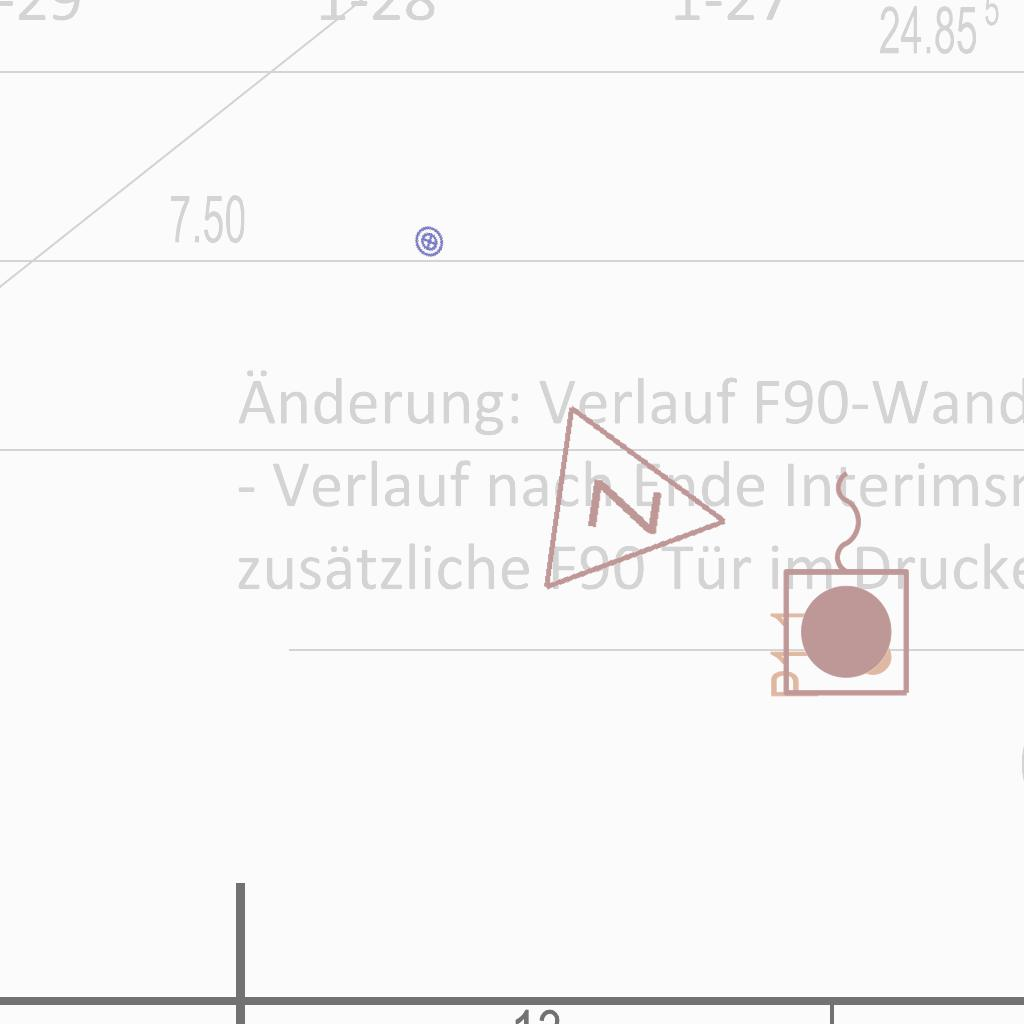Downlight_LED_Einbauleuchten_Flur: (767, 607, 895, 700)
Taster_beleuchtet: (407, 219, 452, 264)
Zimmersignalleuchte: (528, 396, 754, 618)
Zugtaster: (776, 460, 920, 704)
